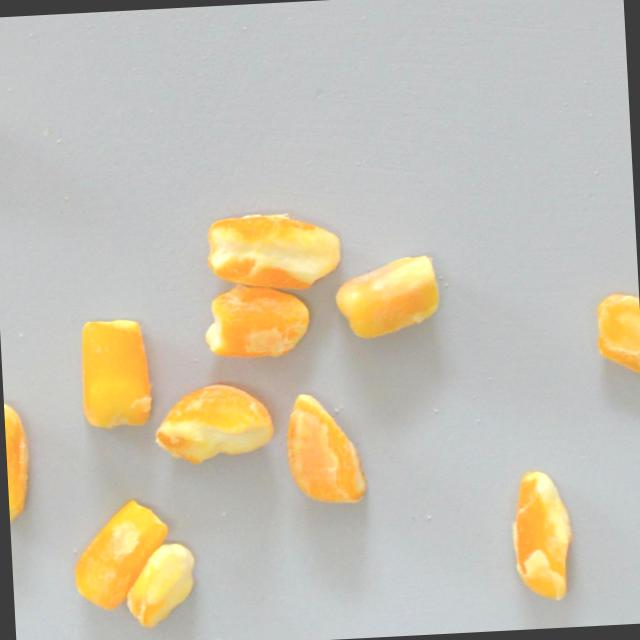pelicula: (199, 206, 346, 294), (67, 492, 174, 611), (151, 381, 276, 465), (283, 389, 368, 506), (332, 252, 445, 340), (510, 467, 578, 602), (79, 317, 153, 432), (201, 283, 310, 361), (122, 541, 199, 630), (594, 292, 640, 381), (3, 393, 33, 526)
